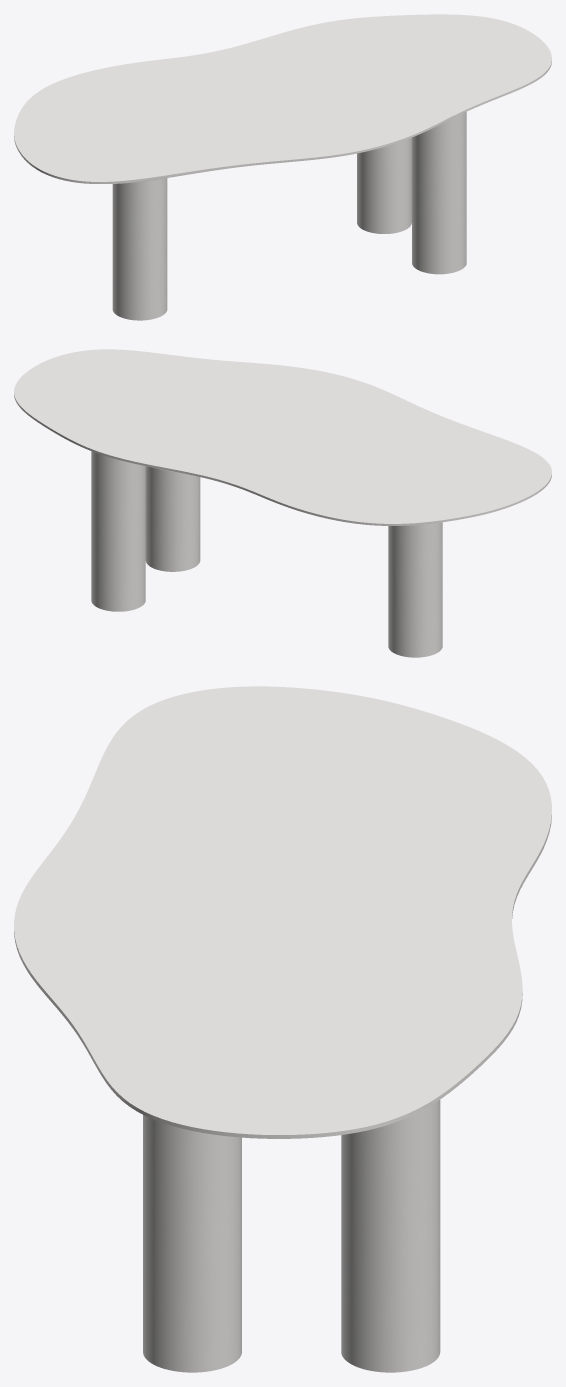
Rendered from purewhite_toplast_facet_cylinder.glb.
The picture shows the model from 3 angles, top to bottom: view 1: azimuth 30°, elevation 25°; view 2: azimuth 150°, elevation 25°; view 3: azimuth 270°, elevation 25°; orthographic projection. The views are drawn at different scales.
Visible parts, largest first — view 1: facet_toplast, cylinder; view 2: facet_toplast, cylinder; view 3: facet_toplast, cylinder.
Part boxes in pixels (x1,y1,x2,y2): facet_toplast: [14, 14, 551, 183]; cylinder: [112, 112, 466, 320]; facet_toplast: [14, 349, 551, 525]; cylinder: [91, 451, 442, 657]; facet_toplast: [14, 686, 551, 1138]; cylinder: [143, 1100, 440, 1372].
Size of the model in its own units: 7.5 by 2.52 by 3.8.
1 material, 1 textured.
